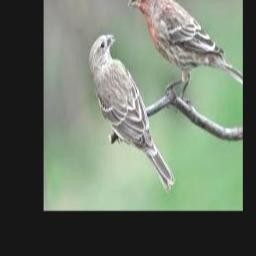Sparrow: (89, 34, 175, 192), (128, 0, 243, 100)
